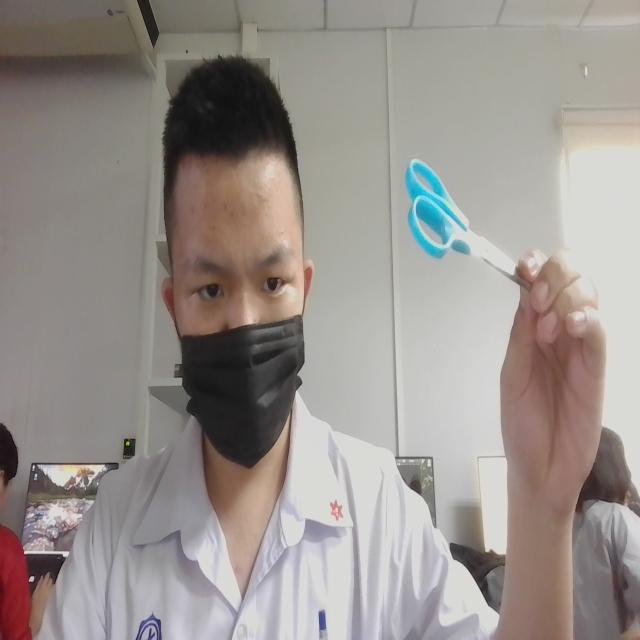scissors: (399, 148, 525, 310)
